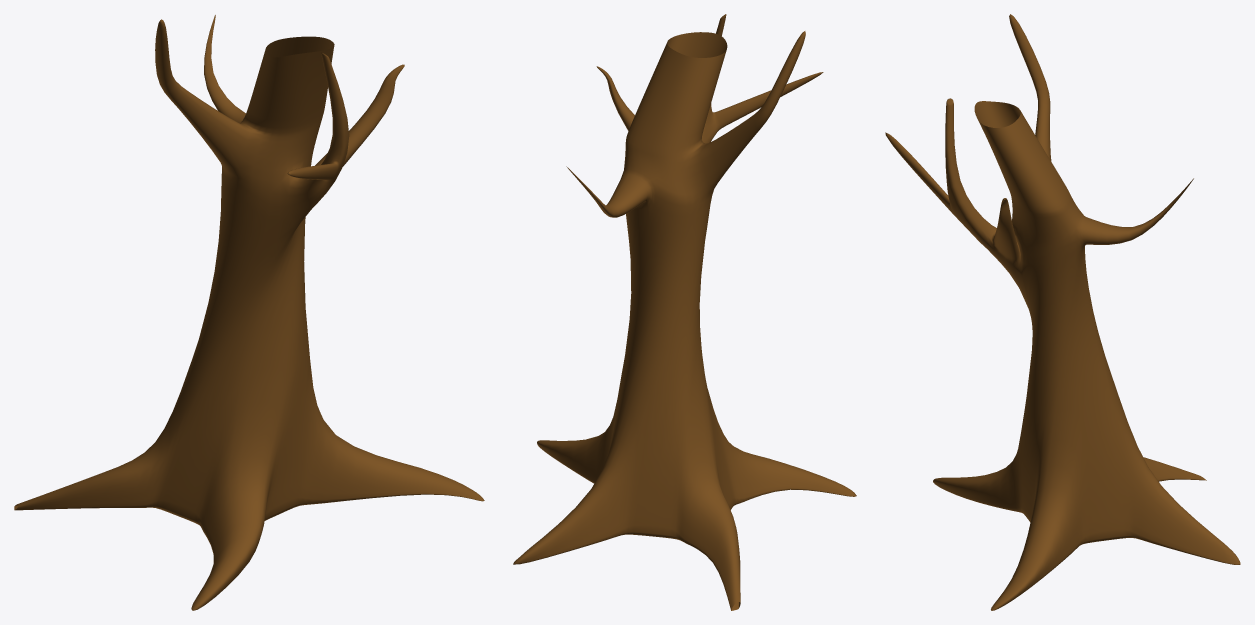
Rendered from tree_2.fbx.
3 views of the same model, side by side, from view 1: azimuth 30°, elevation 25°; view 2: azimuth 150°, elevation 25°; view 3: azimuth 270°, elevation 25° (orthographic). The views are drawn at different scales.
Parts seen in each view (by area): view 1: pCylinder10; view 2: pCylinder10; view 3: pCylinder10.
Part boxes in pixels (box(x1,y1,x2,y2)): pCylinder10: box(14, 15, 484, 610); pCylinder10: box(513, 14, 856, 610); pCylinder10: box(885, 14, 1240, 610).
Size of the model in its own units: 422 by 654 by 439.
